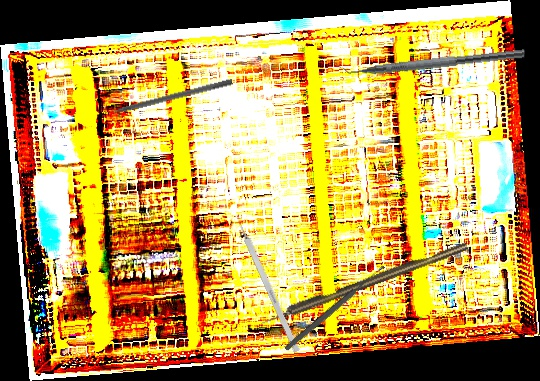Chopper: (329, 36, 527, 82)
Hook Surgical: (258, 241, 469, 327), (232, 212, 301, 353)
Pusher: (96, 77, 233, 119)
Surgical Spoon: (283, 263, 387, 353)
